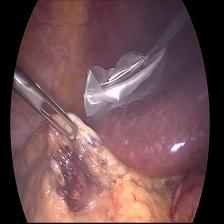Grasper: (13, 58, 79, 159), (138, 38, 159, 65)
Specimen Bag: (80, 44, 152, 123)
